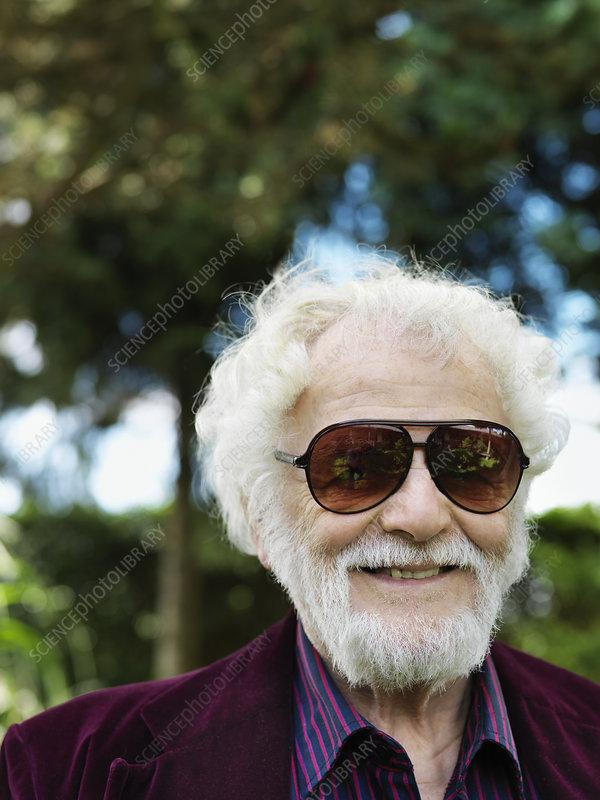sunglasses: (292, 402, 532, 536)
